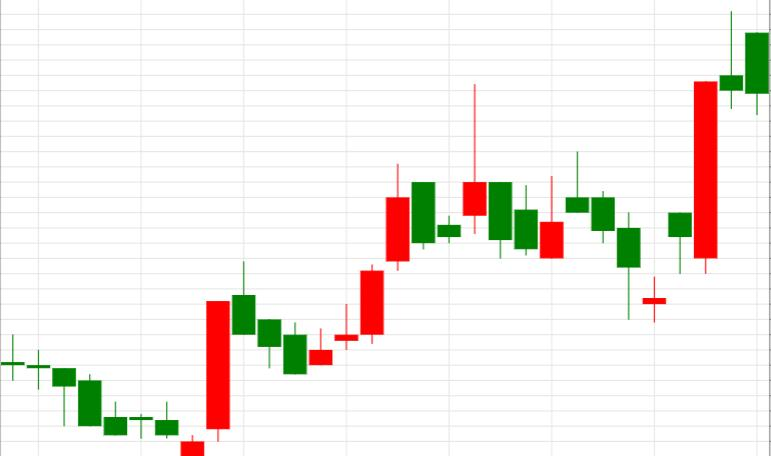shooting_star_fall: (309, 84, 486, 366)
